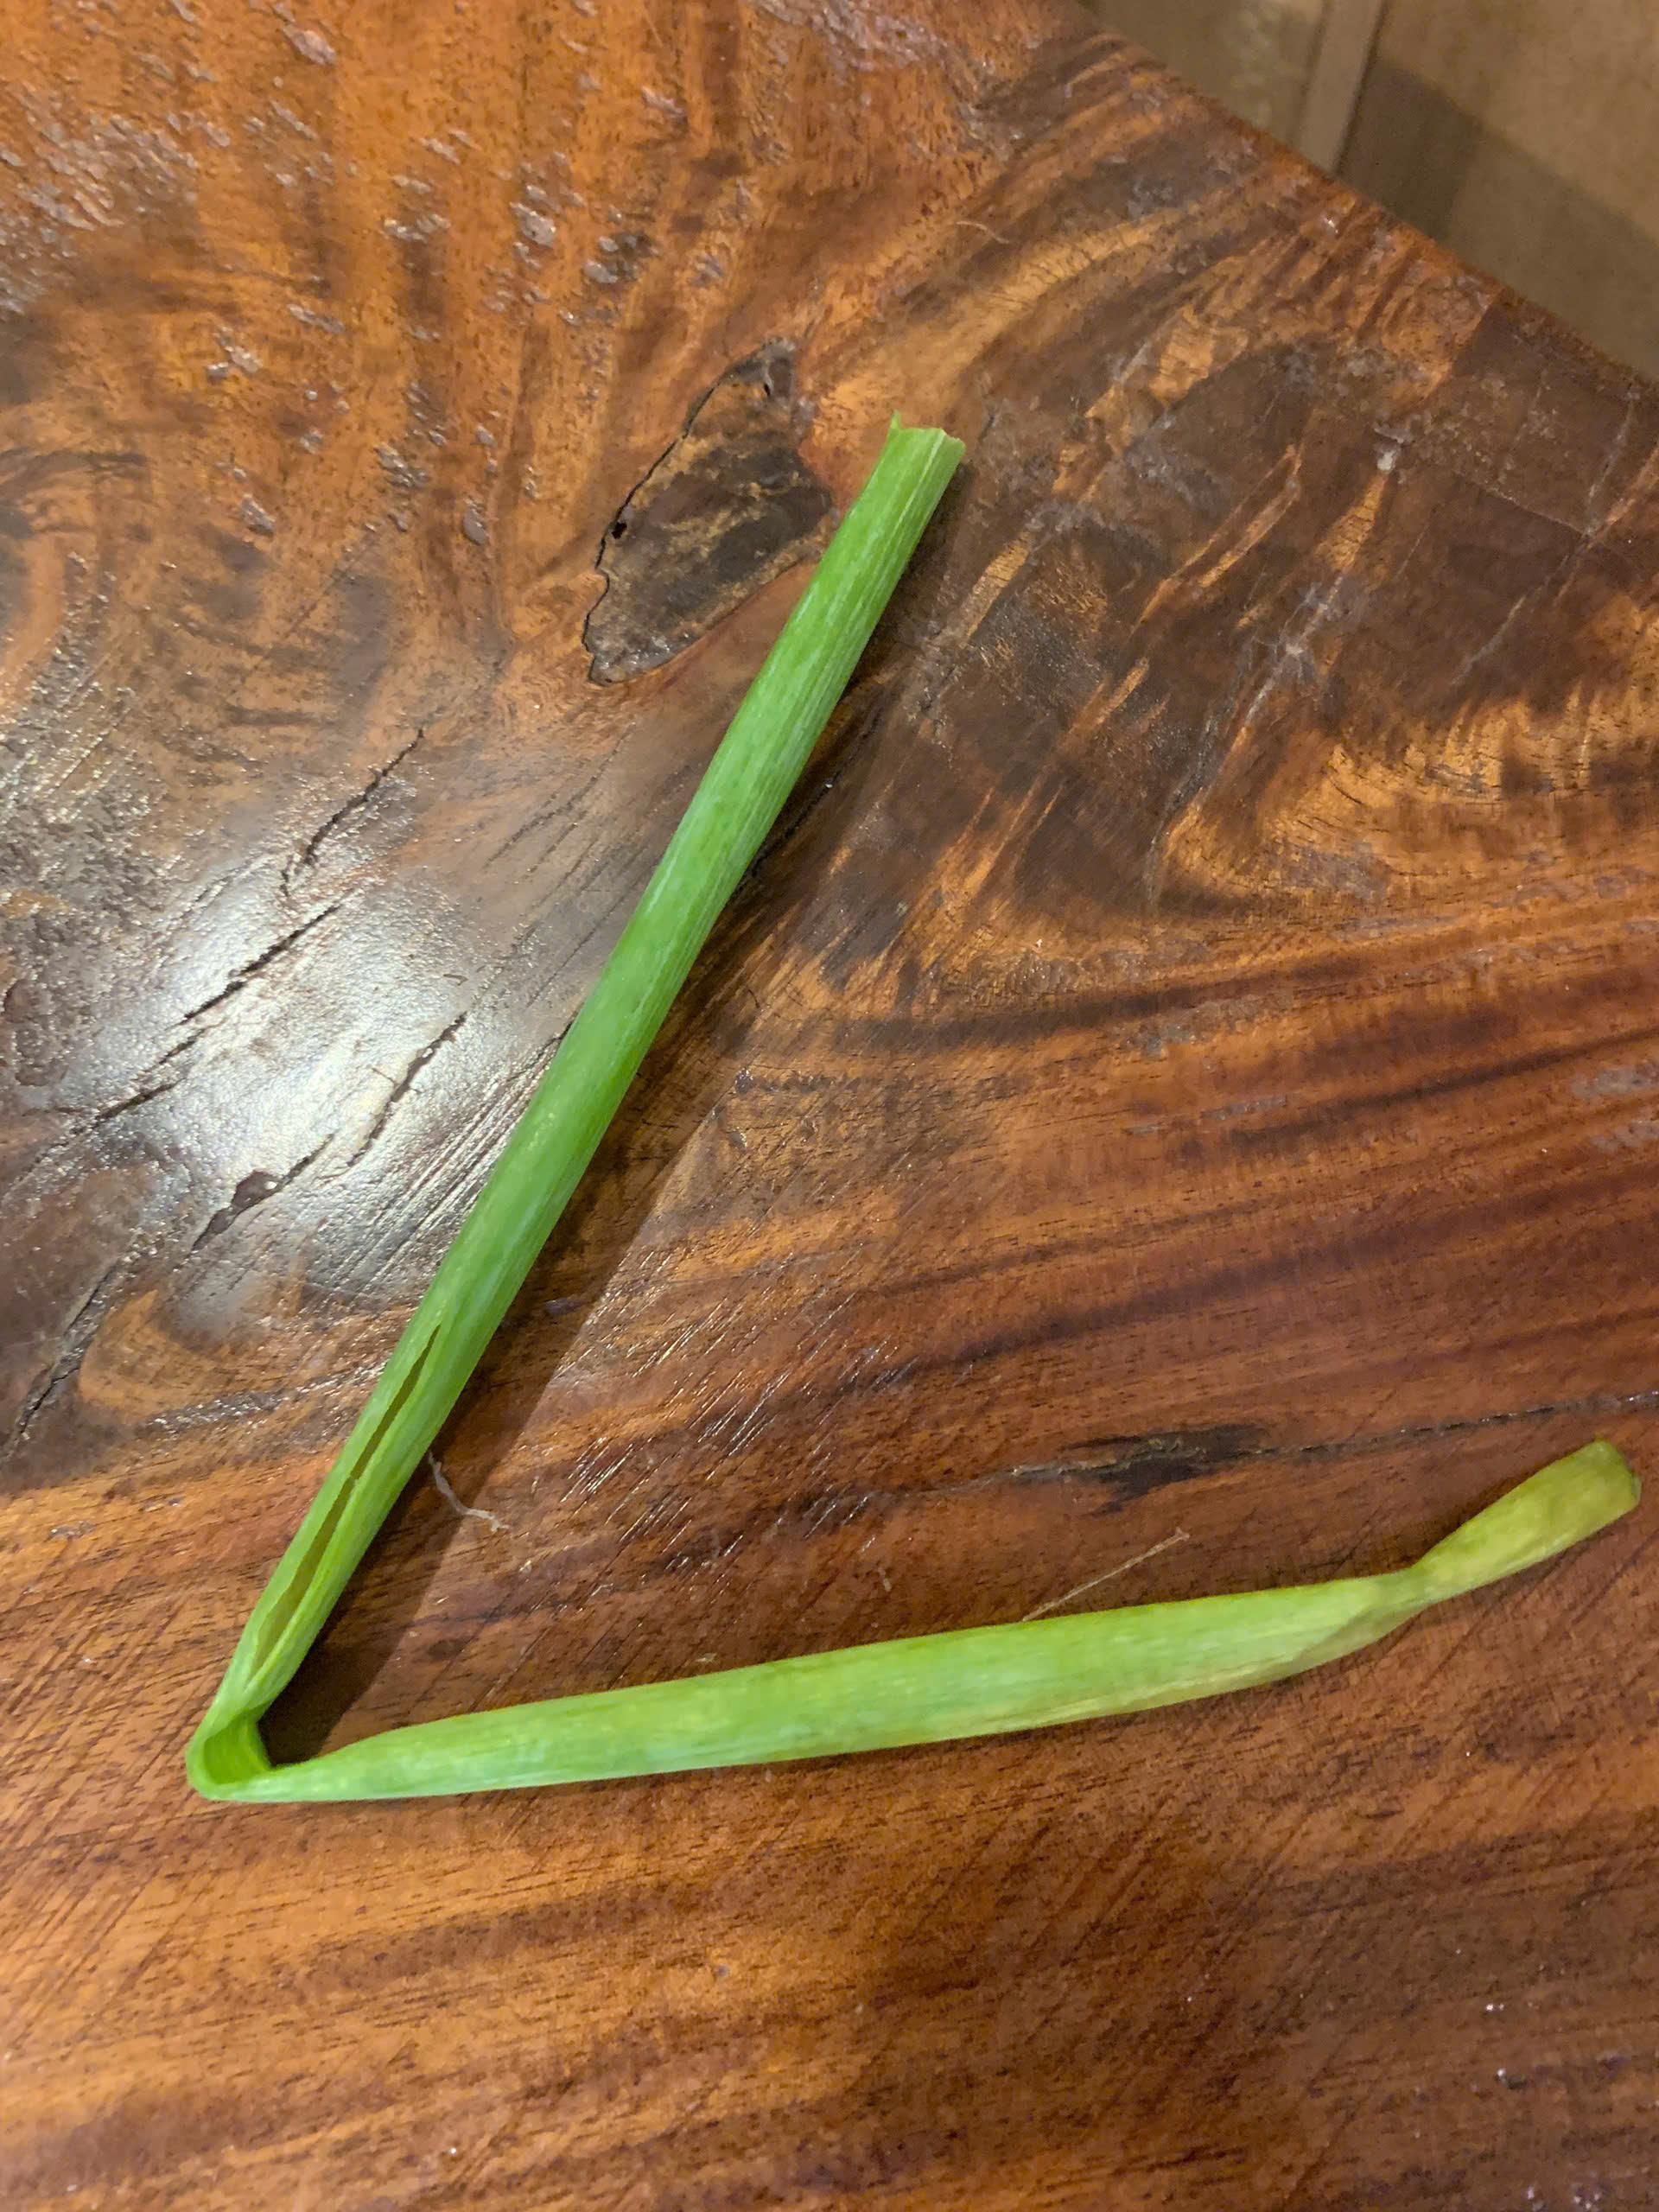Huu co: (186, 434, 1621, 1789)
